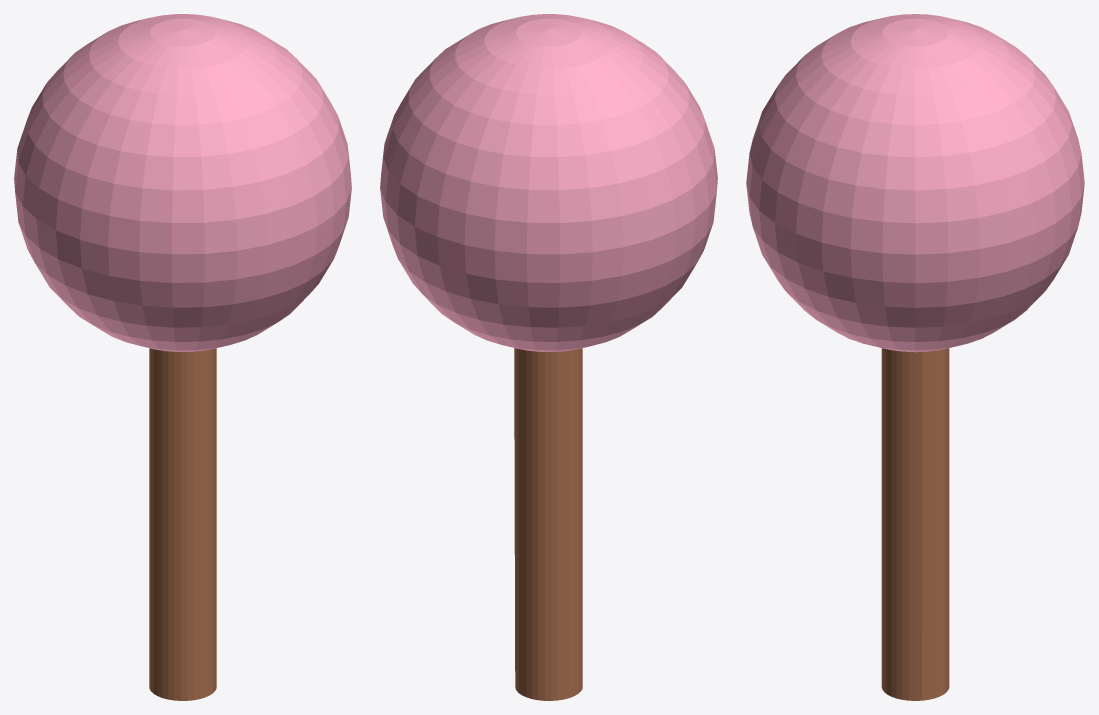
The model's file is SakuraTree.obj.
3 views of the same model, side by side, from view 1: azimuth 30°, elevation 25°; view 2: azimuth 150°, elevation 25°; view 3: azimuth 270°, elevation 25° (orthographic).
Visible parts, largest first — view 1: Sphere, Cylinder; view 2: Sphere, Cylinder; view 3: Sphere, Cylinder.
Boxes of the visible parts, x1=… form: Sphere: x1=14, y1=14, x2=351, y2=351; Cylinder: x1=149, y1=348, x2=216, y2=700; Sphere: x1=380, y1=14, x2=717, y2=351; Cylinder: x1=514, y1=348, x2=582, y2=700; Sphere: x1=746, y1=14, x2=1084, y2=352; Cylinder: x1=881, y1=348, x2=949, y2=700.
Bounding box in the file's own units: 8 × 17.13 × 8.
Materials: 2 (2 with a texture image).
